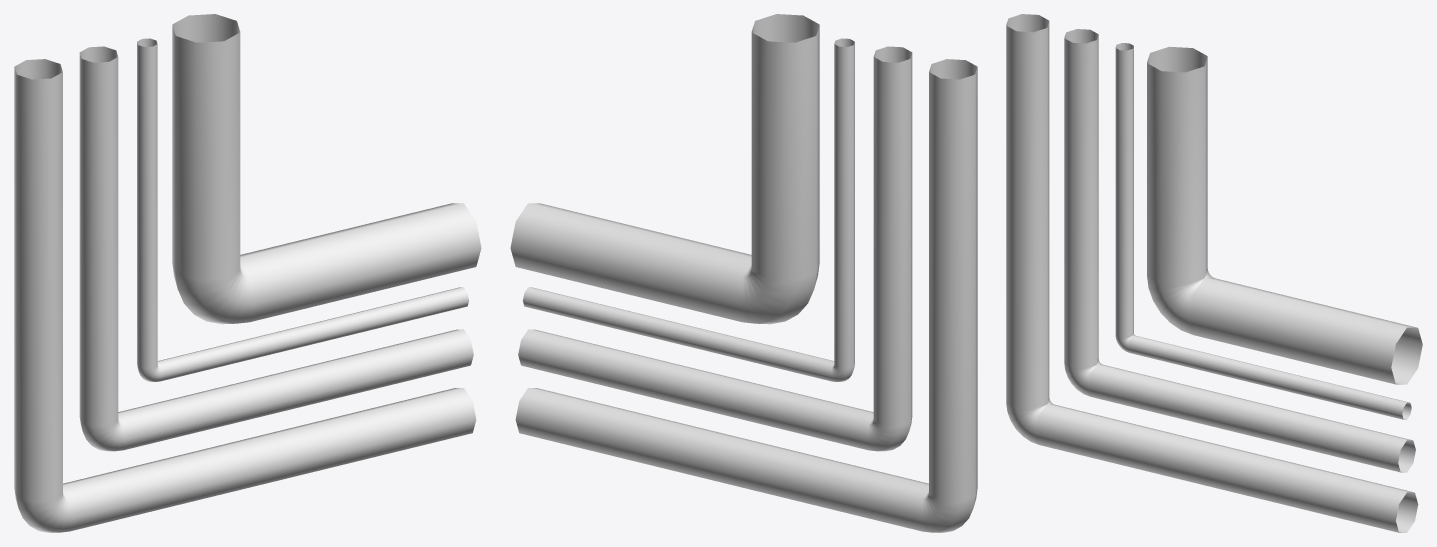
File: Pipes.005 HD.005.fbx
The picture shows the model from 3 angles, left to right: view 1: azimuth 30°, elevation 25°; view 2: azimuth 150°, elevation 25°; view 3: azimuth 330°, elevation 25°; orthographic projection. The views are drawn at different scales.
Parts seen in each view (by area): view 1: Pipes.005 HD.005; view 2: Pipes.005 HD.005; view 3: Pipes.005 HD.005.
Boxes of the visible parts, box(x1,y1,x2,y2) form: Pipes.005 HD.005: box(14, 14, 481, 532); Pipes.005 HD.005: box(510, 14, 977, 532); Pipes.005 HD.005: box(1006, 14, 1422, 532).
Size of the model in its own units: 0.6073 by 0.6075 by 0.0832.
